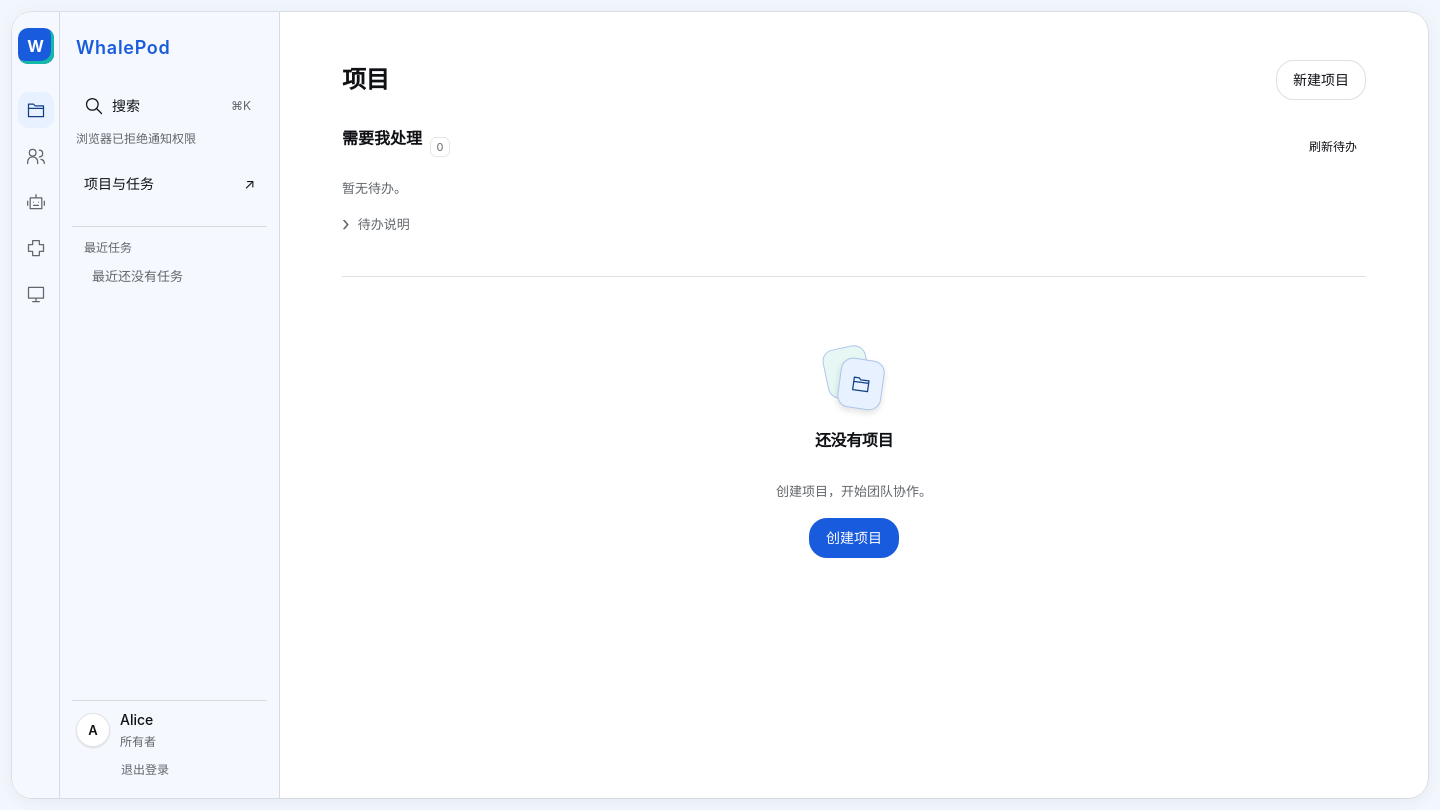
Scenario: P1-423 workbench interactions › first-project empty state opens the existing form without creating anything
What coordinates should you click on to do the following:
click the button "创建项目"
I would click on:
 (854, 538)
Its box is [809,518,899,558].
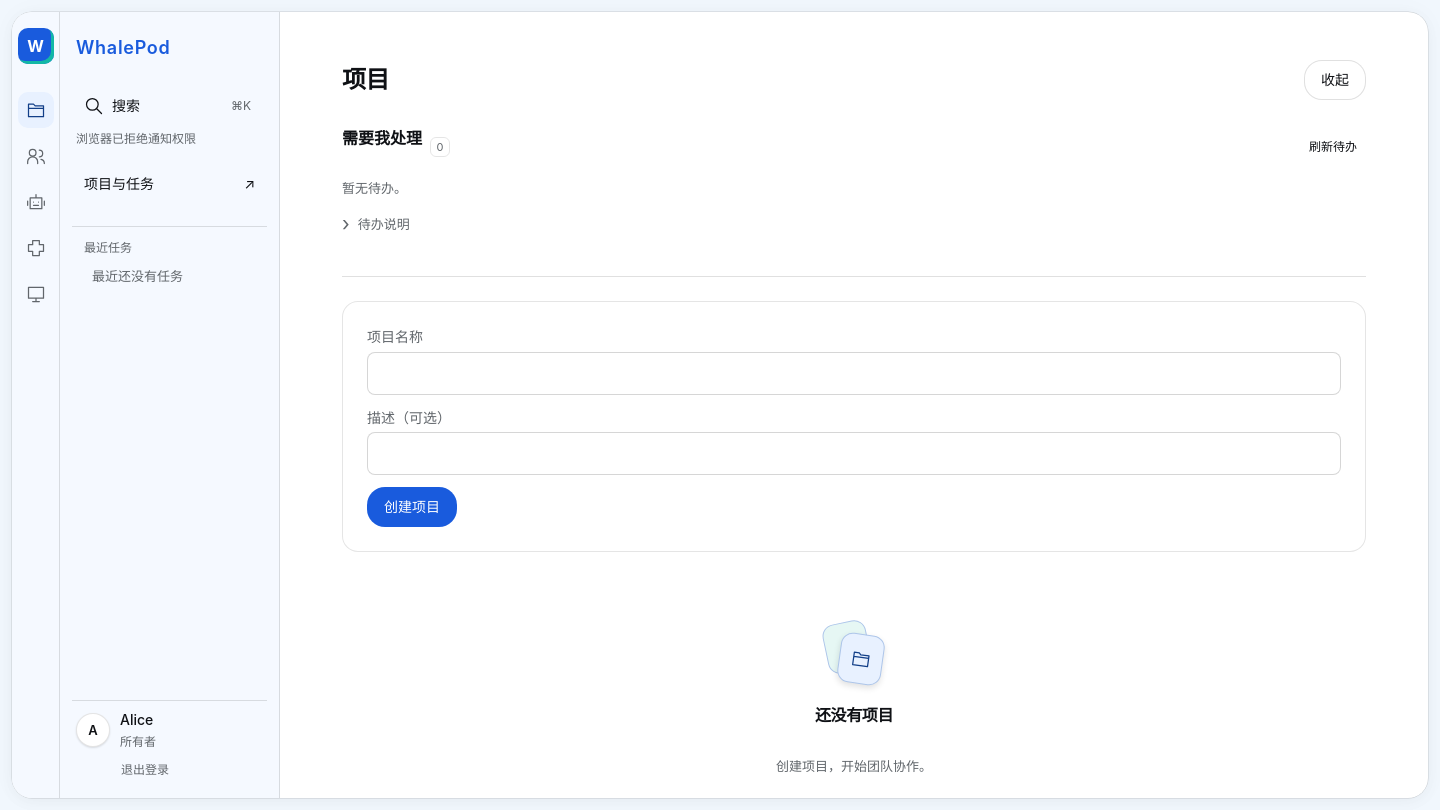
Expected: the field labelled "项目名称" is shown, [367,352,1341,395]
